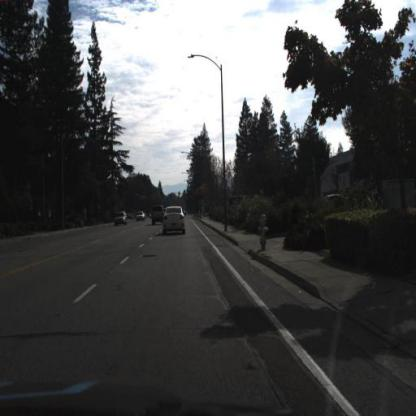car: (160, 204, 185, 234), (150, 204, 164, 228), (113, 209, 126, 224), (136, 209, 146, 222)
